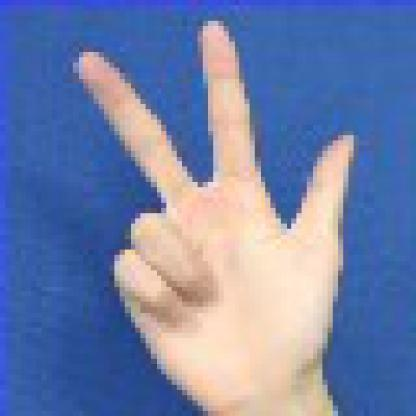eight: (47, 10, 397, 410)
